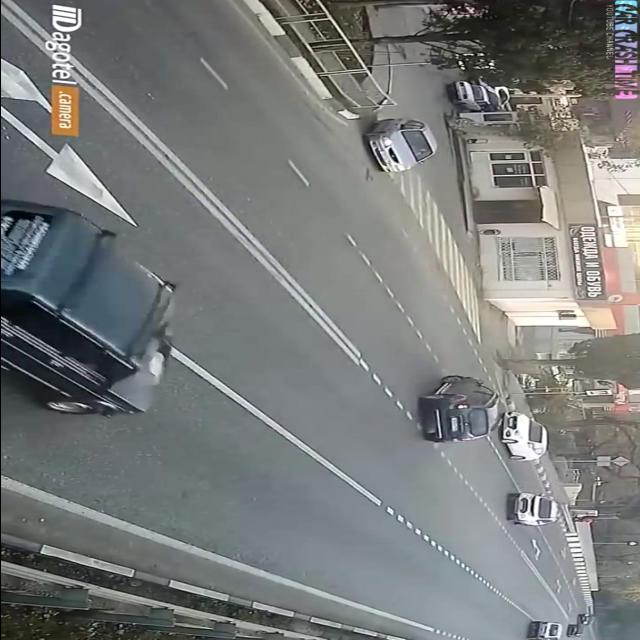non_accident: (406, 370, 551, 466)
